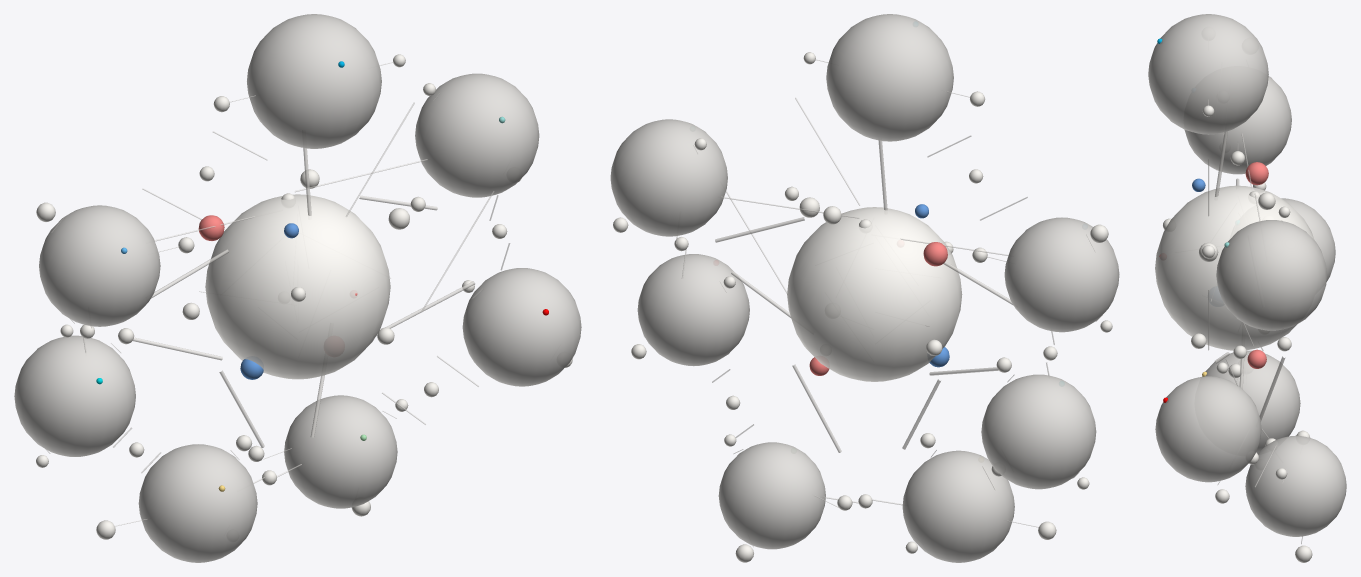
File: molecule.glb
3 renders of one model, left to right at view 1: azimuth 30°, elevation 25°; view 2: azimuth 150°, elevation 25°; view 3: azimuth 270°, elevation 25°, orthographic. The views are drawn at different scales.
Size of the model in its own units: 5.49 by 5.66 by 2.04.
